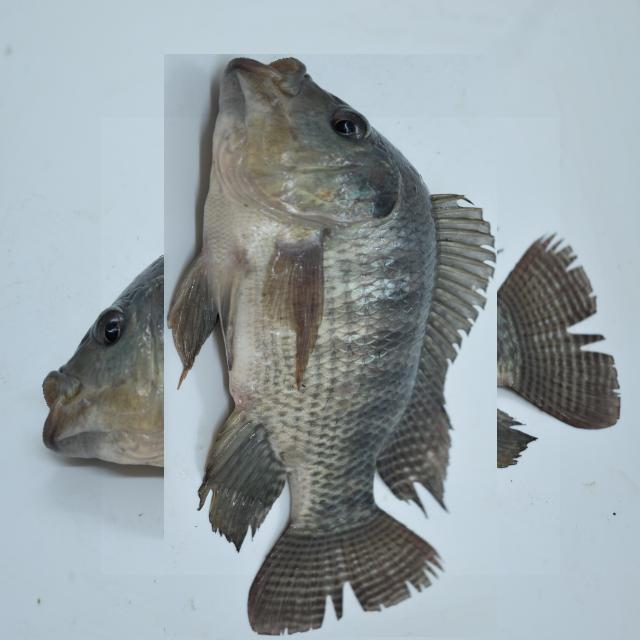Healthy Fish: (101, 117, 560, 575)
